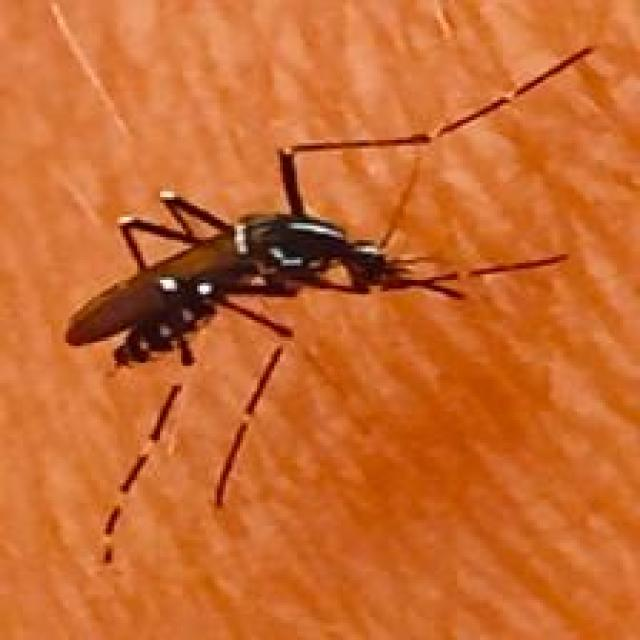Aedes albopictus: (61, 43, 596, 566)
